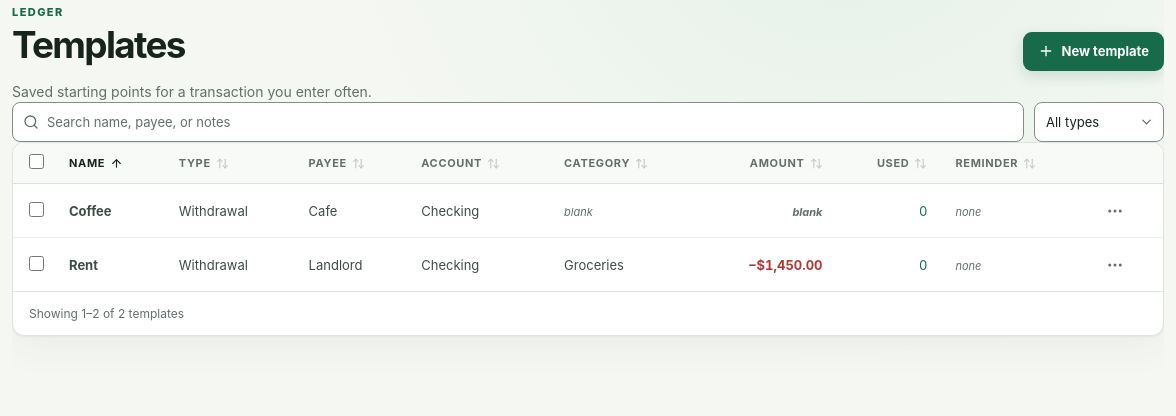
the templates screen › narrows on a search and drops a selection that no longer applies
Expected: the heading "Templates" is shown, [12, 26, 185, 65]
Expected: the text "Rent" is shown, [69, 257, 98, 273]
Click the checkbox named "Select Rent" at (36, 263), box [28, 256, 44, 271]
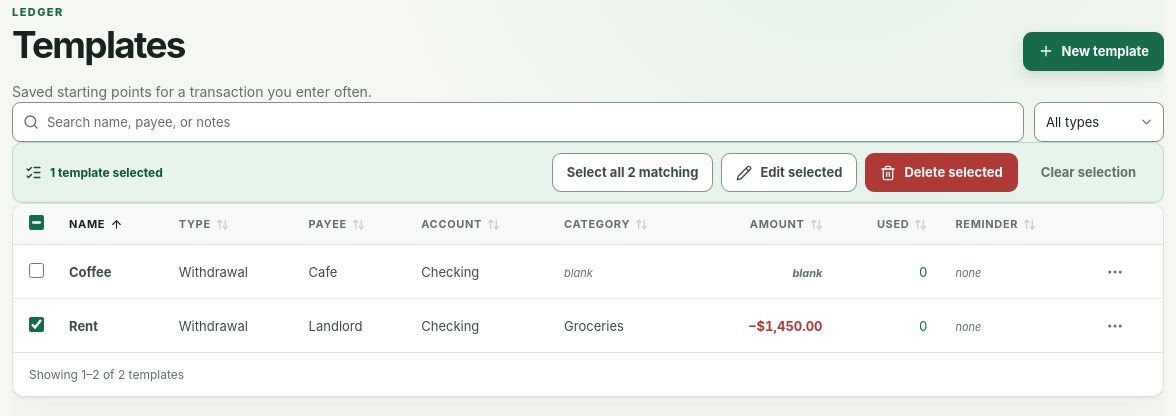
Now the text "1 template selected" is shown, box [50, 165, 163, 180]
Type "coffee" into the search field named "Search templates" at (518, 122), box [12, 102, 1024, 142]
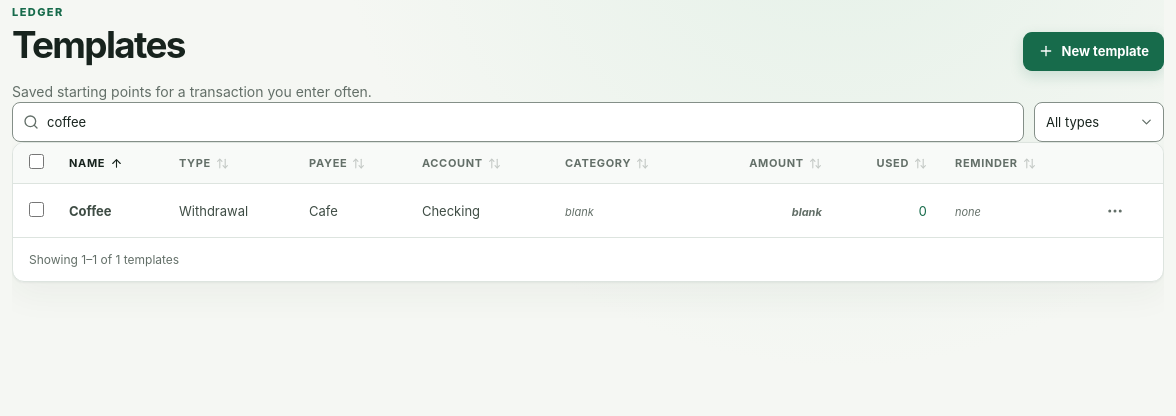
Now the text "Rent" is gone
Now the text "template selected" is gone
